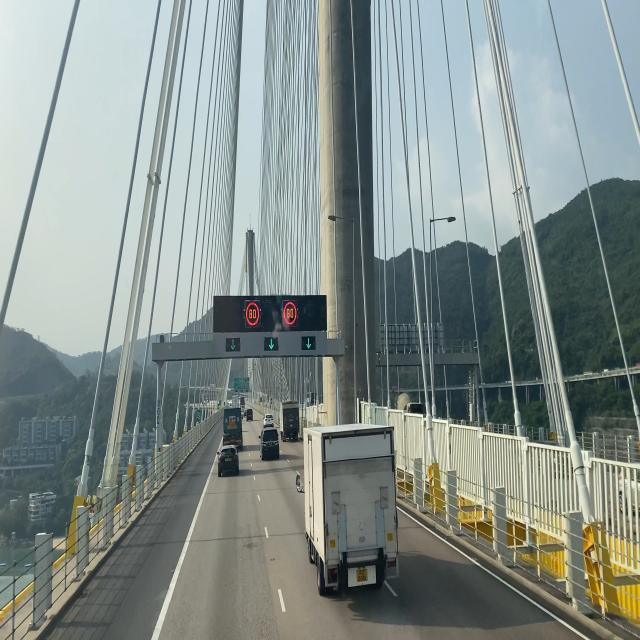Car: (294, 426, 402, 594), (278, 397, 301, 445), (222, 406, 246, 451), (216, 443, 242, 478), (258, 427, 284, 460)
